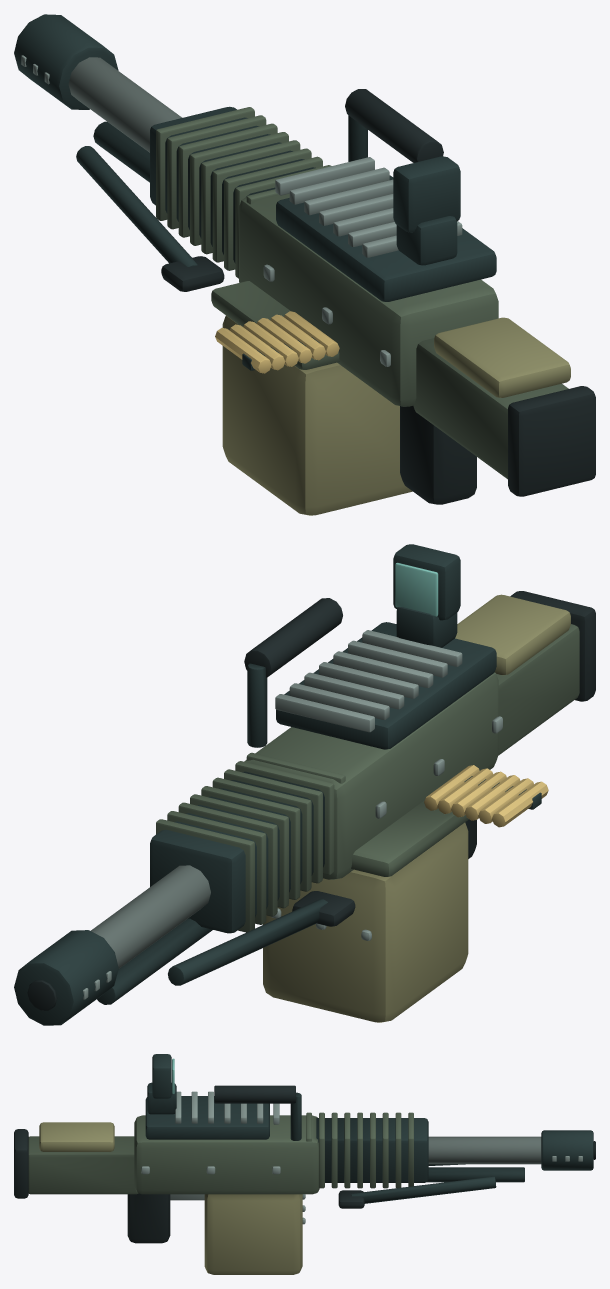
The model's file is kf-weapon-lmg.glb.
3 views of the same model, one above another, from view 1: azimuth 30°, elevation 25°; view 2: azimuth 150°, elevation 25°; view 3: azimuth 270°, elevation 25° (orthographic). The views are drawn at different scales.
Visible parts, largest first — view 1: Weapon Field olive, Weapon Stowage canvas, Weapon Gunmetal, Weapon Track rubber, Weapon Machined steel, Weapon Brass markings; view 2: Weapon Field olive, Weapon Gunmetal, Weapon Stowage canvas, Weapon Machined steel, Weapon Track rubber, Weapon Brass markings, Weapon Optic glass; view 3: Weapon Field olive, Weapon Gunmetal, Weapon Stowage canvas, Weapon Track rubber, Weapon Machined steel.
Part boxes in pixels (left/top/right/bottom): Weapon Field olive: left=156, top=107, right=568, bottom=479; Weapon Stowage canvas: left=222, top=315, right=570, bottom=515; Weapon Gunmetal: left=14, top=14, right=496, bottom=370; Weapon Track rubber: left=161, top=89, right=595, bottom=504; Weapon Machined steel: left=21, top=55, right=462, bottom=366; Weapon Brass markings: left=215, top=311, right=339, bottom=373; Weapon Field olive: left=156, top=624, right=579, bottom=932; Weapon Gunmetal: left=14, top=544, right=541, bottom=1025; Weapon Stowage canvas: left=263, top=594, right=570, bottom=1022; Weapon Machined steel: left=83, top=630, right=502, bottom=999; Weapon Track rubber: left=27, top=591, right=595, bottom=1010; Weapon Brass markings: left=424, top=765, right=548, bottom=827; Weapon Optic glass: left=395, top=562, right=438, bottom=616; Weapon Field olive: left=28, top=1112, right=413, bottom=1194; Weapon Gunmetal: left=145, top=1054, right=593, bottom=1203; Weapon Stowage canvas: left=39, top=1122, right=302, bottom=1274; Weapon Track rubber: left=14, top=1085, right=595, bottom=1243; Weapon Machined steel: left=141, top=1091, right=582, bottom=1224.
Bounding box in the file's own units: 0.4645 × 0.695 × 1.78.
